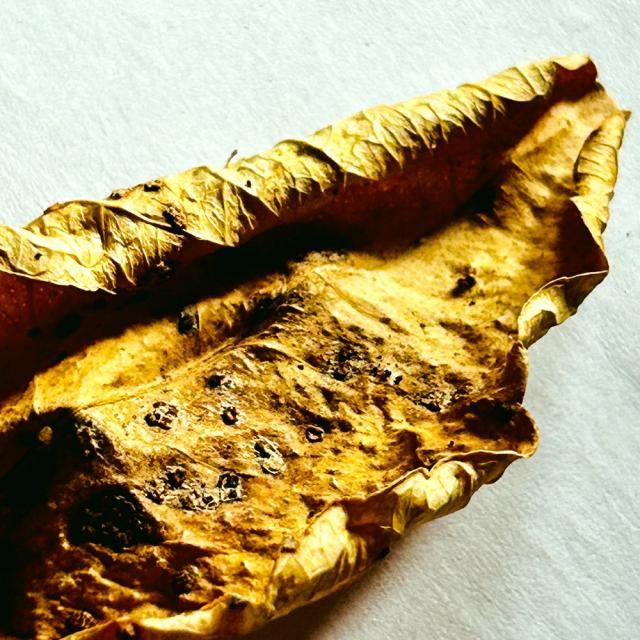DryLeaf_Lemon: (0, 55, 630, 639)
